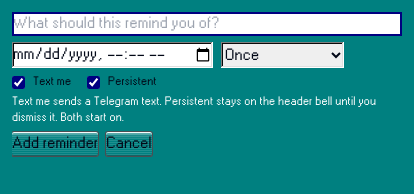
Test case: ReminderQuickAdd › asks for a name and a time
The width and height of the screenshot is (414, 194).
Click the button "Add reminder" at (55, 144), box [12, 132, 98, 156]
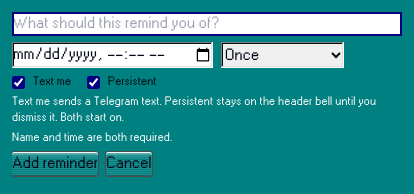
Expected: the text "Name and time are both required." is shown, [12, 132, 172, 143]
